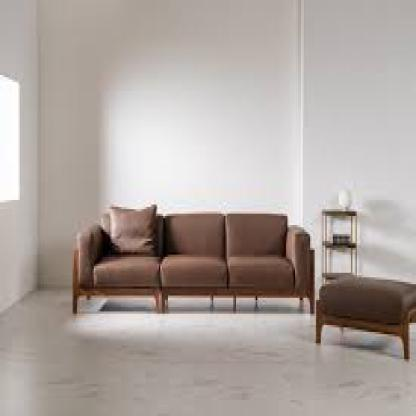sofa: (74, 207, 316, 327)
